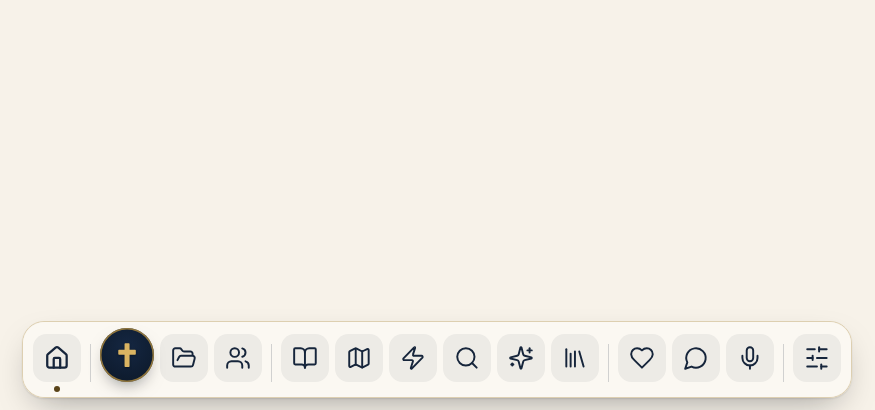
Dock (versão web) › parando ~300 ms em cima abre o balão com nome, descrição e atalhos que já existem
Hover over the link named "Bíblia Sagrada" at (305, 358), box [281,334,329,382]
Wait 300 ms
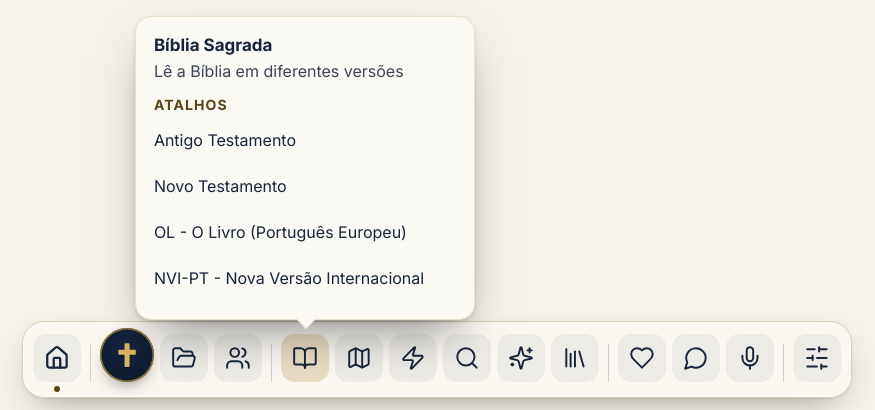
Expected: the element "Bíblia Sagrada" shows "Lê a Bíblia em diferentes versões", [154,60,404,80]
